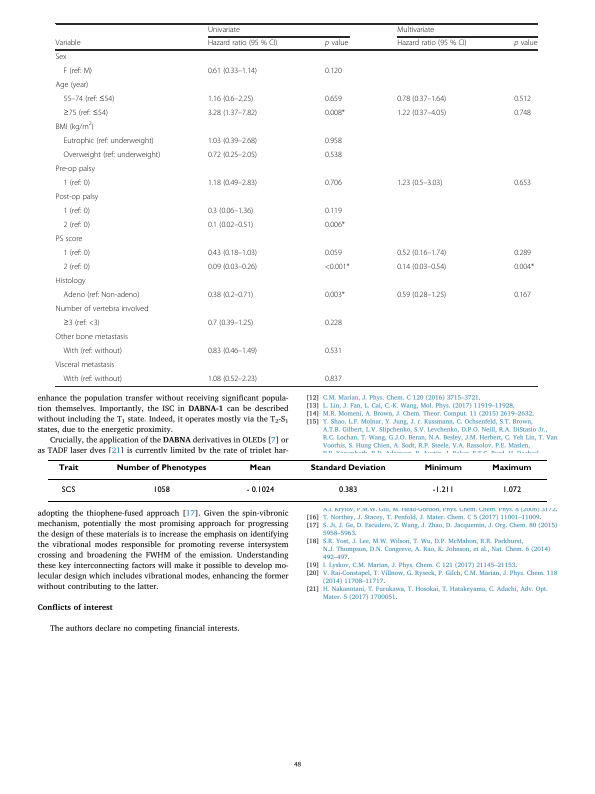borderless: (54, 22, 538, 386), (47, 458, 547, 501)
cell: (62, 150, 161, 160), (55, 304, 149, 314), (62, 136, 155, 146), (115, 463, 207, 472), (62, 290, 140, 300), (55, 332, 129, 342), (396, 39, 468, 49), (207, 39, 278, 49), (309, 463, 386, 472), (62, 346, 123, 356), (62, 374, 123, 384), (55, 360, 115, 370), (62, 94, 115, 104), (207, 66, 258, 76), (396, 94, 447, 104), (207, 108, 258, 118), (396, 108, 447, 118), (207, 136, 258, 146), (207, 150, 258, 160), (207, 178, 258, 188), (207, 248, 258, 258), (396, 248, 447, 258), (207, 262, 258, 272), (396, 262, 447, 272), (396, 290, 447, 300), (207, 346, 258, 356), (207, 374, 258, 384), (207, 94, 254, 104), (62, 108, 109, 118), (396, 178, 443, 188), (207, 206, 254, 216), (207, 220, 254, 230), (207, 290, 254, 300), (207, 318, 254, 328), (55, 121, 95, 132), (55, 192, 99, 202), (55, 164, 96, 174), (62, 318, 101, 328), (491, 463, 532, 472), (423, 463, 462, 472), (396, 26, 435, 35), (55, 80, 89, 90), (62, 66, 93, 76), (55, 276, 86, 286), (207, 26, 241, 35), (62, 178, 91, 188), (62, 206, 91, 216), (62, 220, 91, 230), (62, 248, 91, 258), (62, 262, 91, 272), (55, 234, 83, 244), (324, 262, 351, 272), (55, 39, 81, 49), (324, 39, 349, 49), (513, 39, 538, 49), (245, 485, 275, 493), (324, 108, 346, 118), (324, 220, 346, 230), (513, 262, 535, 272), (324, 290, 346, 300), (248, 463, 271, 472), (57, 463, 79, 472), (324, 66, 343, 76), (324, 94, 343, 104), (513, 94, 532, 104), (513, 108, 532, 118), (324, 136, 343, 146), (324, 150, 343, 160), (324, 178, 343, 188), (513, 178, 532, 188), (324, 206, 343, 216), (324, 248, 343, 258), (513, 248, 532, 258), (513, 290, 532, 300), (324, 318, 343, 328), (324, 346, 343, 356), (324, 374, 343, 384), (431, 485, 454, 493), (501, 485, 522, 493), (338, 485, 358, 493), (152, 485, 170, 493), (60, 485, 76, 493), (55, 52, 67, 62)
